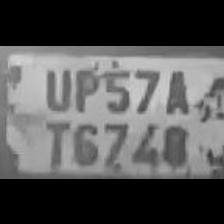4: (128, 116, 160, 166)
5: (100, 64, 132, 114)
6: (69, 118, 101, 168)
7: (130, 63, 160, 115), (100, 116, 128, 166)
A: (160, 64, 192, 116)
P: (71, 64, 102, 114)
T: (40, 116, 68, 168)
U: (39, 62, 73, 112)
